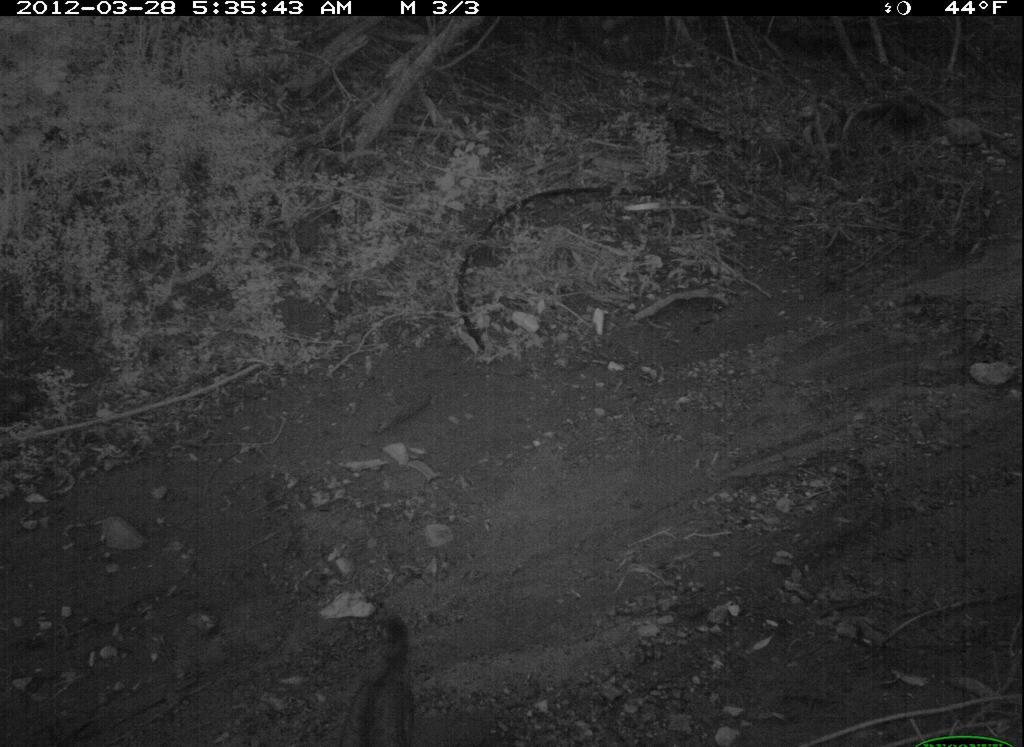cat: (324, 606, 432, 747)
